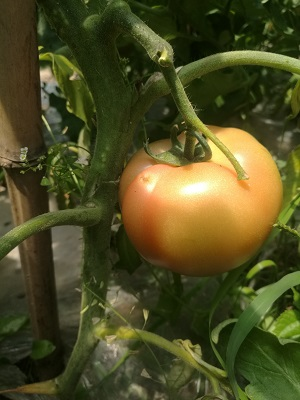semi-mature-tomato: (119, 126, 283, 276)
